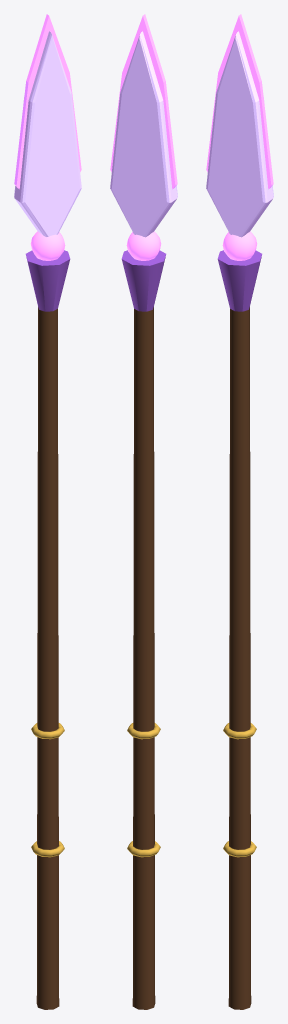
Rendered from spear_f0_5ad47d7b.glb.
The picture shows the model from 3 angles, left to right: view 1: azimuth 30°, elevation 25°; view 2: azimuth 150°, elevation 25°; view 3: azimuth 330°, elevation 25°; orthographic projection.
Visible parts, largest first — view 1: m0_ow80_, m2_ow80_, m4_ow80_, m1_, m3_gm160_, m5_ow80_; view 2: m0_ow80_, m2_ow80_, m4_ow80_, m1_, m3_gm160_, m5_ow80_; view 3: m0_ow80_, m2_ow80_, m4_ow80_, m1_, m3_gm160_, m5_ow80_.
Boxes of the visible parts, x1,y1,x2,y2 form: m0_ow80_: (36, 307, 59, 1009); m2_ow80_: (14, 31, 81, 236); m4_ow80_: (25, 250, 70, 311); m1_: (14, 14, 81, 189); m3_gm160_: (30, 231, 65, 260); m5_ow80_: (31, 723, 64, 857); m0_ow80_: (132, 307, 155, 1009); m2_ow80_: (110, 31, 177, 237); m4_ow80_: (121, 250, 166, 311); m1_: (110, 14, 177, 189); m3_gm160_: (126, 231, 161, 260); m5_ow80_: (127, 723, 160, 857); m0_ow80_: (228, 307, 251, 1009); m2_ow80_: (206, 31, 273, 237); m4_ow80_: (217, 250, 262, 311); m1_: (206, 14, 273, 189); m3_gm160_: (222, 231, 257, 260); m5_ow80_: (223, 723, 256, 857).
Size of the model in its own units: 0.2596 by 3.78 by 0.16.
